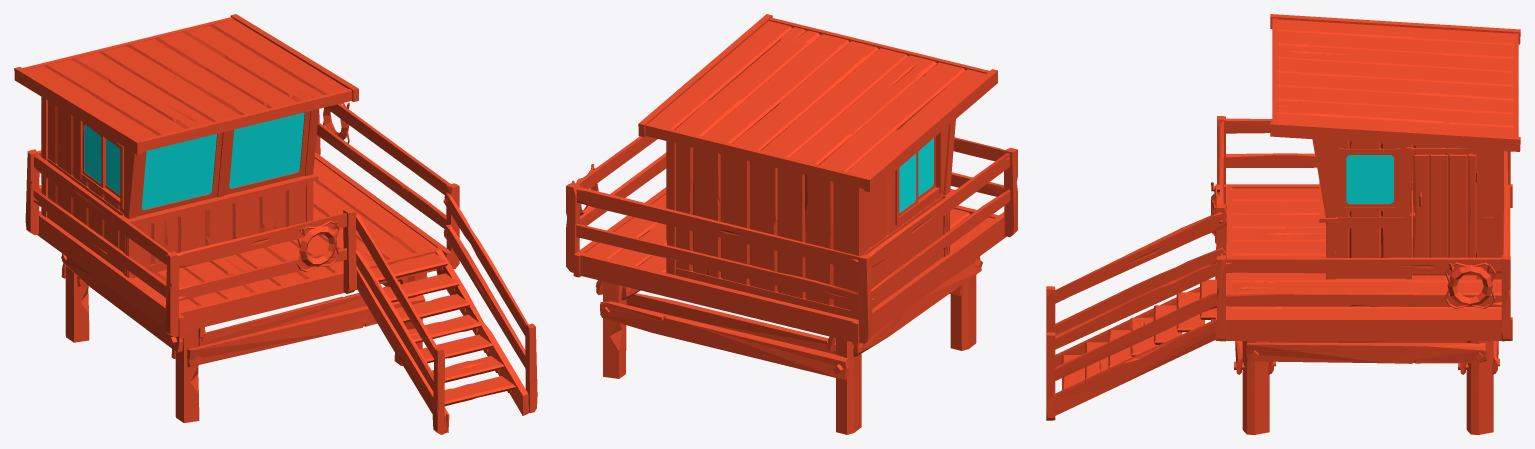
File: SM_Lifeguard_Tower_City.fbx
3 renders of one model, left to right at view 1: azimuth 30°, elevation 25°; view 2: azimuth 150°, elevation 25°; view 3: azimuth 270°, elevation 25°, orthographic. The views are drawn at different scales.
Visible parts, largest first — view 1: SM_Lifeguard_Tower_City_Base; view 2: SM_Lifeguard_Tower_City_Base; view 3: SM_Lifeguard_Tower_City_Base, SM_Lifeguard_Tower_City_Door.
Part boxes in pixels (bbox=[...]): SM_Lifeguard_Tower_City_Base: bbox=[14, 14, 537, 434]; SM_Lifeguard_Tower_City_Base: bbox=[566, 14, 1017, 434]; SM_Lifeguard_Tower_City_Base: bbox=[1046, 14, 1520, 434]; SM_Lifeguard_Tower_City_Door: bbox=[1410, 154, 1477, 275].
Size of the model in its own units: 5.16 by 4.57 by 6.9.
